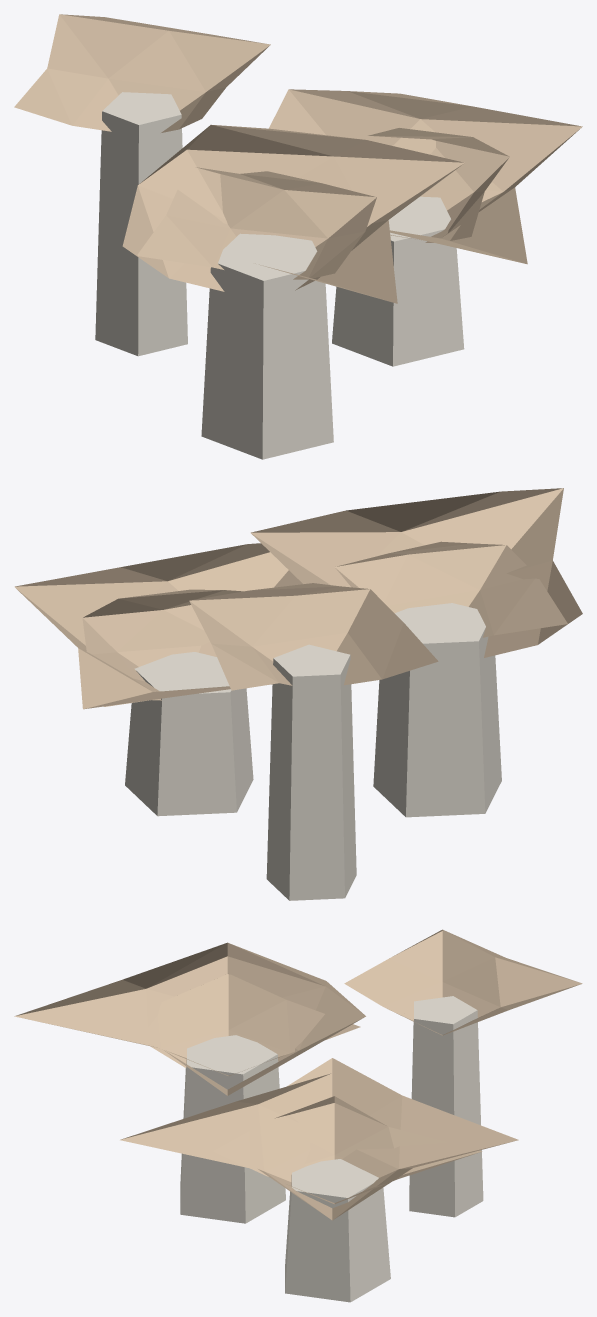
File: mushroom_v23.glb
3 renders of one model, top to bottom at view 1: azimuth 30°, elevation 25°; view 2: azimuth 150°, elevation 25°; view 3: azimuth 270°, elevation 25°, orthographic. The views are drawn at different scales.
Visible parts, largest first — view 1: lod0; view 2: lod0; view 3: lod0.
Boxes of the visible parts, <box> form: lod0: <box>14,14,582,459</box>; lod0: <box>14,488,582,900</box>; lod0: <box>14,929,582,1302</box>.
Size of what is drawn, in the model's own units: 0.8153 by 0.4607 by 0.9188.
